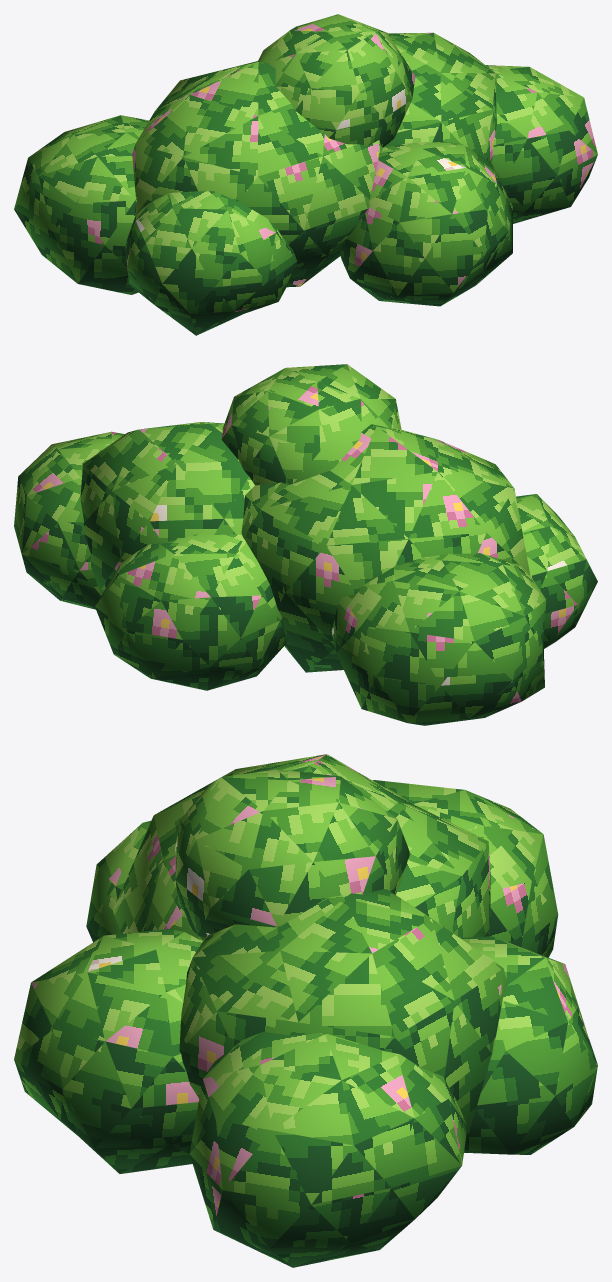
The model's file is bush_flower_b.glb.
3 views of the same model, one above another, from view 1: azimuth 30°, elevation 25°; view 2: azimuth 150°, elevation 25°; view 3: azimuth 270°, elevation 25° (orthographic). The views are drawn at different scales.
Parts seen in each view (by area): view 1: bush_flower_b; view 2: bush_flower_b; view 3: bush_flower_b.
Boxes of the visible parts, box(x1,y1,x2,y2) form: bush_flower_b: box(14, 14, 597, 335); bush_flower_b: box(14, 364, 597, 725); bush_flower_b: box(14, 754, 597, 1267).
Bounding box in the file's own units: 2.27 × 0.9797 × 1.56.
Materials: 1 (1 with a texture image).
